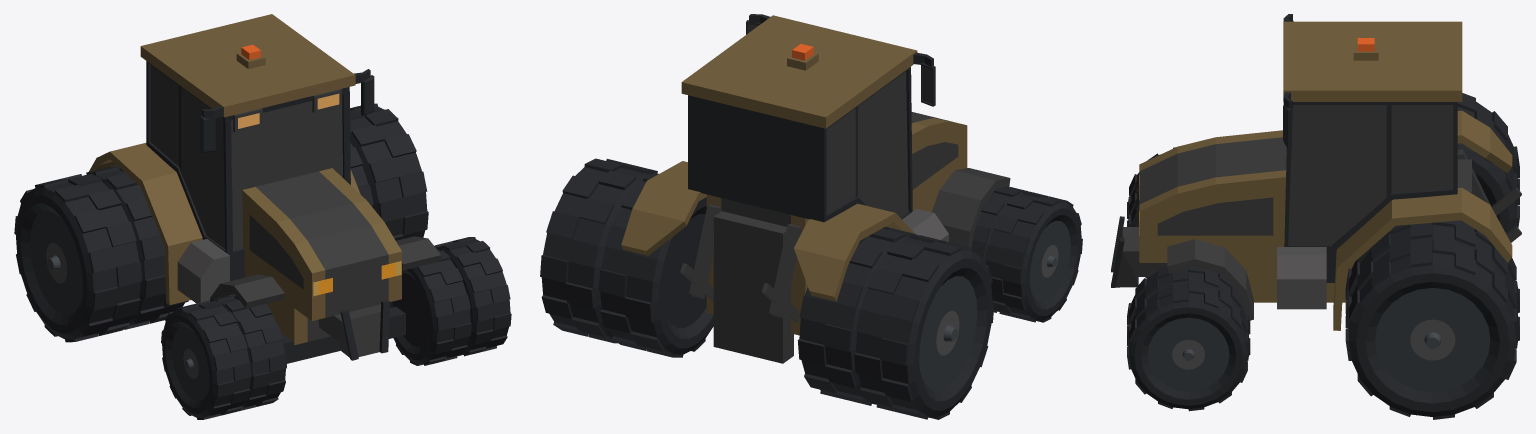
File: TractorDiggerBig_1.fbx
The picture shows the model from 3 angles, left to right: view 1: azimuth 30°, elevation 25°; view 2: azimuth 150°, elevation 25°; view 3: azimuth 270°, elevation 25°; orthographic projection. The views are drawn at different scales.
Visible parts, largest first — view 1: TractorDiggerBig_1, TractorDiggerBigBackWheels_1, TractorDiggerBigFrontWheels_1; view 2: TractorDiggerBig_1, TractorDiggerBigBackWheels_1, TractorDiggerBigFrontWheels_1; view 3: TractorDiggerBig_1, TractorDiggerBigBackWheels_1, TractorDiggerBigFrontWheels_1.
Boxes of the visible parts, x1=… form: TractorDiggerBig_1: x1=89, y1=14, x2=441, y2=363; TractorDiggerBigBackWheels_1: x1=14, y1=103, x2=428, y2=342; TractorDiggerBigFrontWheels_1: x1=161, y1=237, x2=511, y2=419; TractorDiggerBig_1: x1=621, y1=14, x2=1010, y2=363; TractorDiggerBigBackWheels_1: x1=540, y1=158, x2=994, y2=419; TractorDiggerBigFrontWheels_1: x1=971, y1=186, x2=1082, y2=322; TractorDiggerBig_1: x1=1111, y1=14, x2=1521, y2=330; TractorDiggerBigBackWheels_1: x1=1345, y1=93, x2=1519, y2=419; TractorDiggerBigFrontWheels_1: x1=1127, y1=147, x2=1250, y2=411.
Size of the model in its own units: 566 by 430 by 549.
